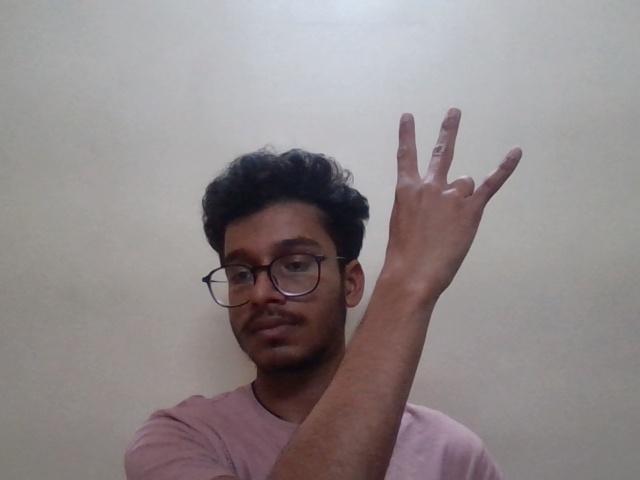why: (392, 96, 535, 255)
